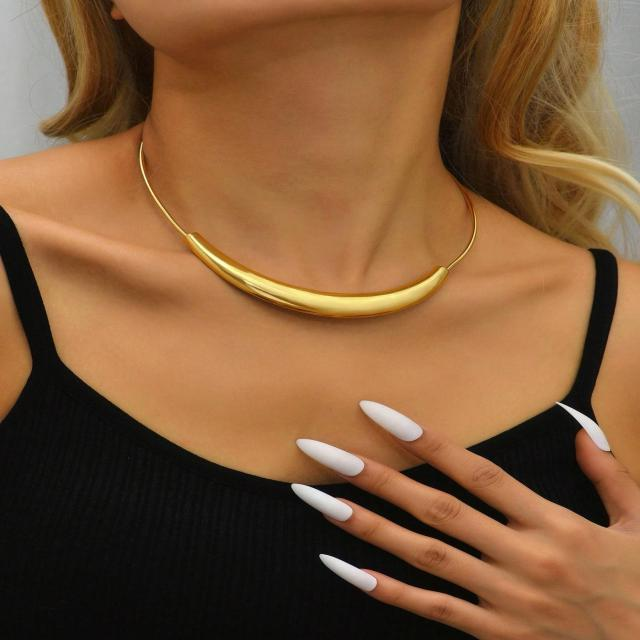Nail: (296, 439, 364, 476), (558, 403, 610, 451), (360, 401, 421, 441), (293, 484, 351, 521), (320, 555, 375, 593)
